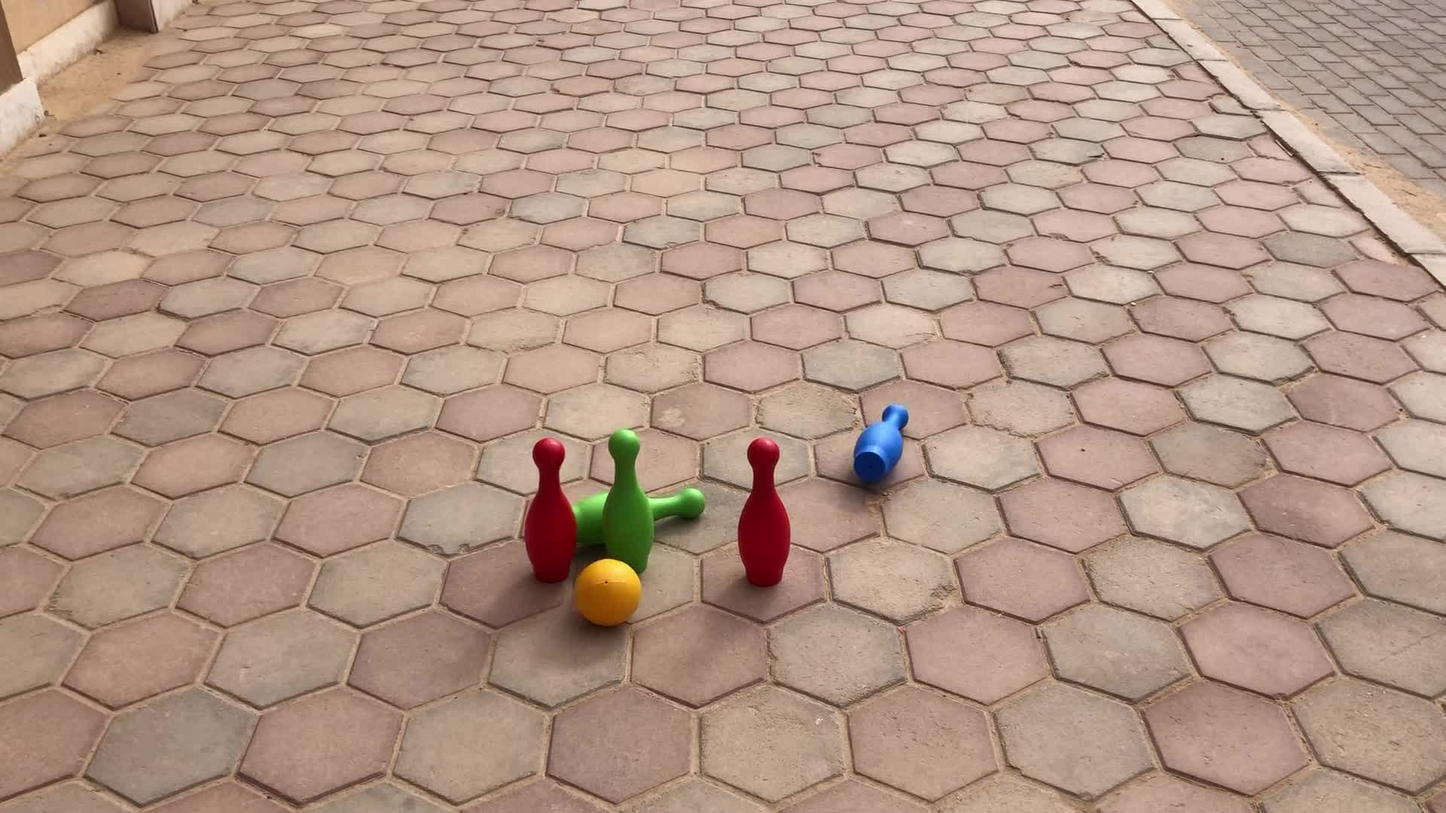bowling-pin: (739, 437, 790, 586), (604, 429, 654, 573), (524, 439, 575, 580), (850, 403, 906, 483), (572, 492, 608, 547)
